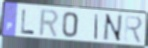0: (61, 11, 80, 39)
I: (94, 13, 100, 41)
L: (20, 8, 36, 36)
N: (101, 14, 124, 43)
R: (37, 8, 61, 39), (123, 14, 144, 45)
